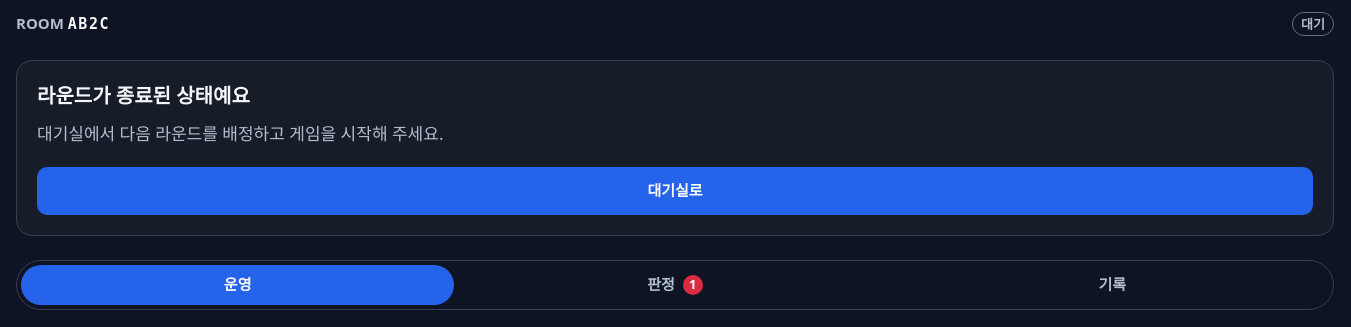
Test case: RoundOpsPage › 라운드 종료 후 대기 안내 › 판정 탭은 미판정 건수를 밝히고, 기록 탭 열기를 누르면 기록 탭으로 전환된다
The width and height of the screenshot is (1351, 327).
Click the radio button labelled "판정 1": (675,285) [458, 265, 892, 305]
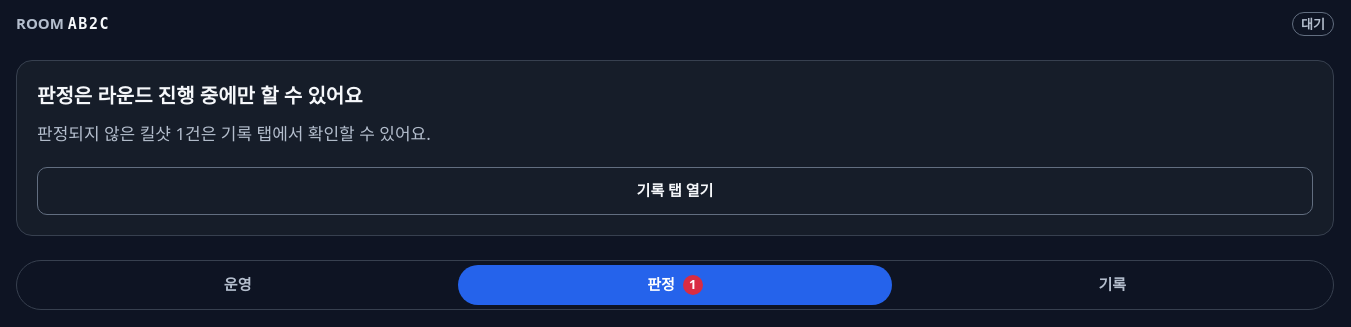
Expected: the text "판정은 라운드 진행 중에만 할 수 있어요" is shown, [37, 82, 363, 109]
Expected: the text "판정되지 않은 킬샷 1건은 기록 탭에서 확인할 수 있어요." is shown, [37, 122, 431, 145]
Click the button "기록 탭 열기": (675,191) [37, 167, 1313, 215]
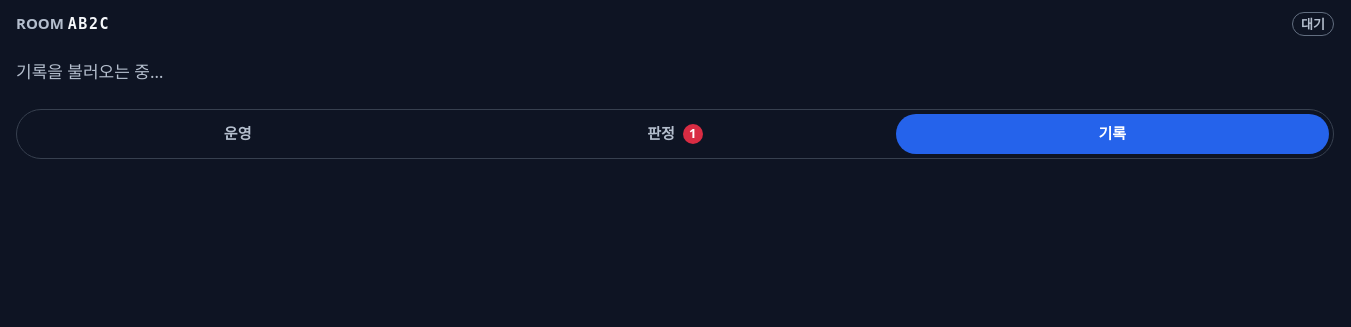
Expected: the text "기록을 불러오는 중…" is shown, [16, 60, 163, 83]
Expected: the text "판정은 라운드 진행 중에만 할 수 있어요" is gone
